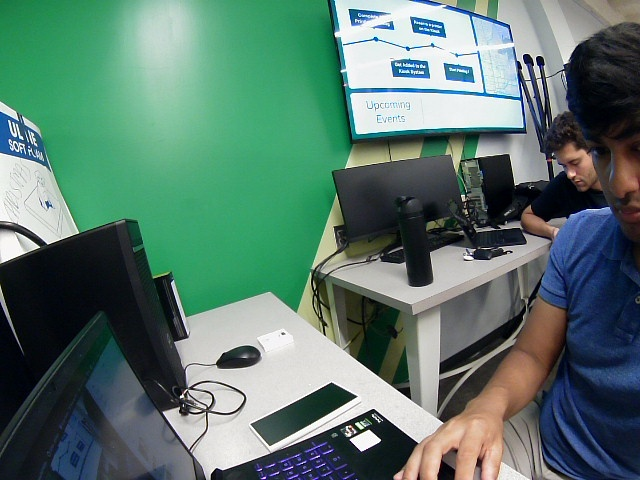bottle: (388, 187, 445, 284)
